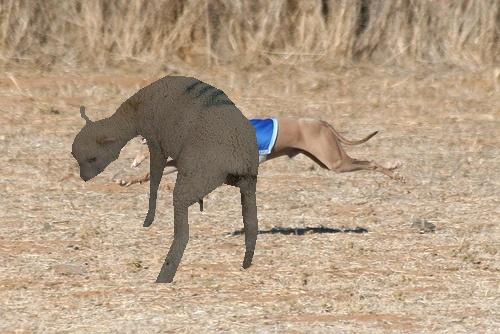tampered: (72, 76, 259, 283)
